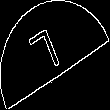L_SE: (35, 26, 75, 84)
